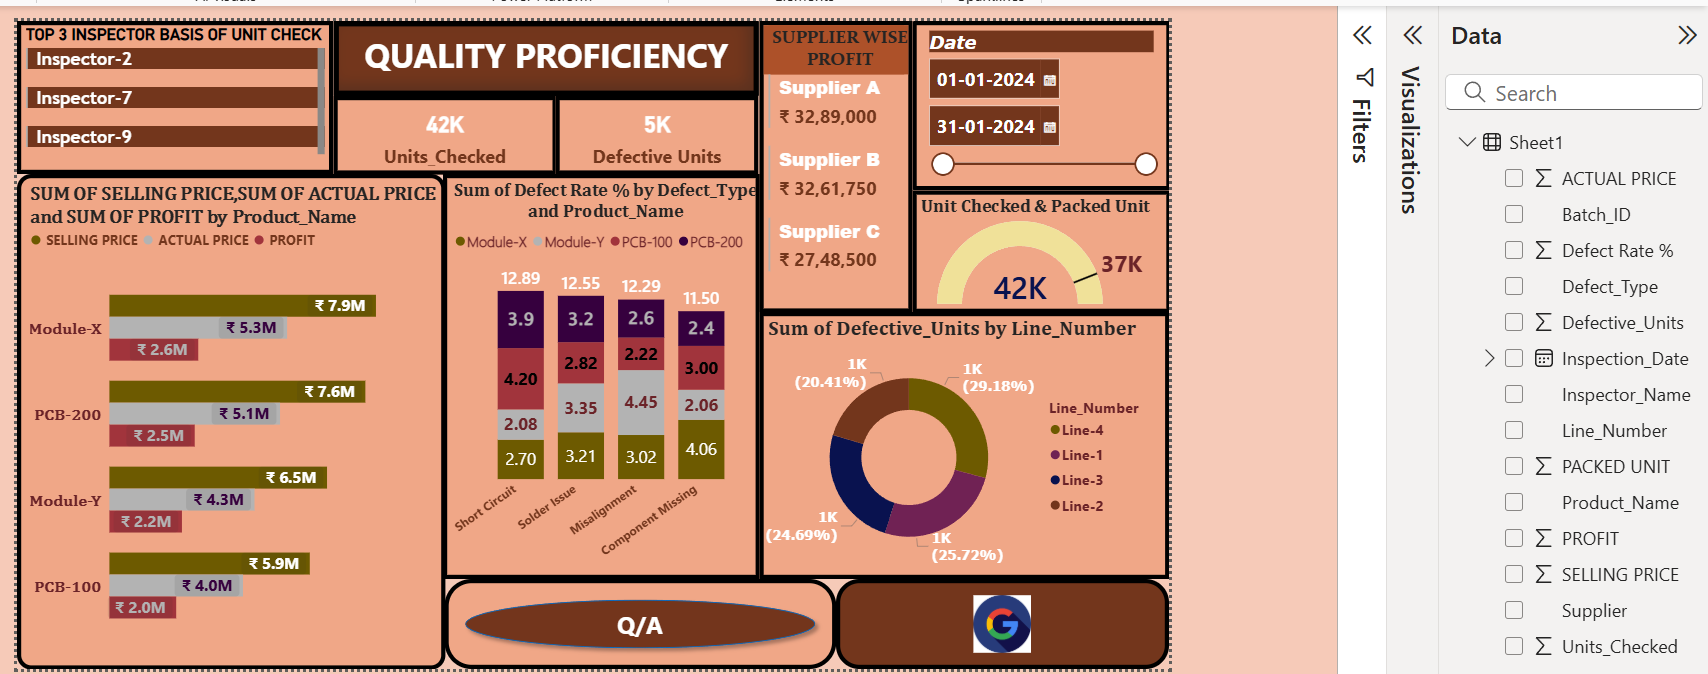

Layout of this report page (visuals, bound fields, positions):
{"tool":"powerbi","page":{"name":"Page 1","canvas":[1280,720],"ordinal":0},"visuals":[{"type":"slicer","fields":{"Values":["Sheet1.Inspection_Date"]},"box":[994.2,0,286.6,187.8],"z":0},{"type":"textbox","box":[351.5,0,472.4,83.2],"z":1000},{"type":"multiRowCard","title":"TOP 3 INSPECTOR BASIS OF UNIT CHECK ","fields":{"Values":["Sheet1.Inspector_Name"]},"box":[0,0,351.4,170],"z":2000},{"type":"card","fields":{"Values":["Sheet1.Units_Checked"]},"box":[351.4,82.6,247.7,87.4],"z":3000},{"type":"card","fields":{"Values":["Sheet1.Defective_Units"]},"box":[599.1,82.6,225.1,87.4],"z":4000},{"type":"multiRowCard","title":"SUPPLIER WISE PROFIT","fields":{"Values":["Sheet1.Supplier","Sheet1.PROFIT"]},"box":[824.2,0,170,323.8],"z":5000},{"type":"columnChart","fields":{"Y":["Sheet1.Defect Rate % "],"Category":["Sheet1.Defect_Type"],"Series":["Sheet1.Product_Name"]},"box":[473.3,170,351.7,450],"z":6000},{"type":"gauge","title":"Unit Checked & Packed Unit","fields":{"Y":["Sheet1.Units_Checked"],"TargetValue":["Sheet1.PACKED UNIT"],"MaxValue":["Sheet1.Units_Checked"]},"box":[994.2,187.8,286.6,136],"z":7000},{"type":"clusteredBarChart","title":" SUM OF SELLING PRICE,SUM OF ACTUAL PRICE and SUM OF PROFIT by Product_Name","fields":{"Category":["Sheet1.Product_Name"],"Y":["Sheet1.SELLING PRICE","Sheet1.ACTUAL PRICE","Sheet1.PROFIT"]},"box":[0,170,476.1,550.5],"z":8000},{"type":"donutChart","fields":{"Category":["Sheet1.Line_Number"],"Y":["Sheet1.Defective_Units"]},"box":[825,323.3,455,296.7],"z":9000},{"type":"shape","box":[475,620,435,100],"z":10000},{"type":"image","box":[910,620,370,100],"z":11000}]}

Visuals, with their boxes in screenshot pixels (x1, y1, x2, y2):
slicer - Sheet1.Inspection_Date: 906/18/1162/186
textbox: 332/18/754/92
"TOP 3 INSPECTOR BASIS OF UNIT CHECK " multiRowCard: 18/18/332/170
card - Sheet1.Units_Checked: 332/92/553/170
card - Sheet1.Defective_Units: 553/92/754/170
"SUPPLIER WISE PROFIT" multiRowCard: 754/18/906/307
columnChart - Sheet1.Defect Rate %  x Sheet1.Defect_Type: 441/170/755/572
"Unit Checked & Packed Unit" gauge: 906/186/1162/307
" SUM OF SELLING PRICE,SUM OF ACTUAL PRICE and SUM OF PROFIT by Product_Name" clusteredBarChart: 18/170/443/661
donutChart - Sheet1.Line_Number x Sheet1.Defective_Units: 755/307/1161/572
shape: 442/572/831/661
image: 831/572/1161/661
